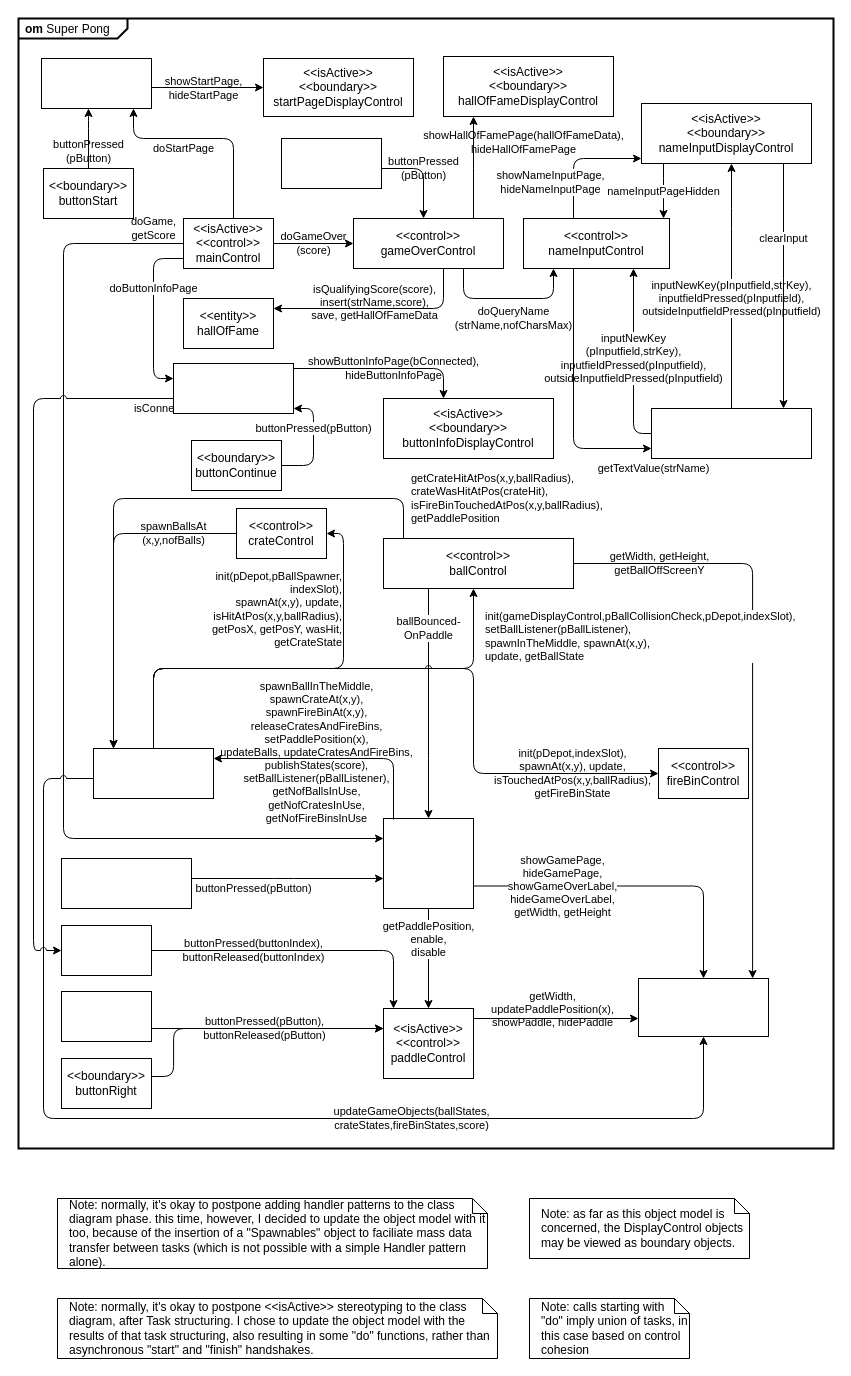
This 851x1376 diagram has some shape labels left out. Each missing label, with the box of its shape:
<<boundary>> buttonGameOverLabel: (60, 858, 192, 908)
<<boundary>> buttonLeft: (60, 990, 152, 1042)
<<boundary>> buttonPlayAgain: (280, 138, 382, 188)
<<boundary>> inputfield: (650, 408, 812, 458)
<<control>> buttonInfoControl: (172, 362, 294, 414)
<<control>> gameControl: (382, 818, 474, 908)
<<control>> startPageControl: (40, 58, 152, 108)
<<entity>> spawnables: (92, 748, 214, 798)
<<isActive>> <<boundary>> adcButtons: (60, 924, 152, 976)
<<isActive>> <<boundary>> gameDisplayControl: (638, 978, 768, 1036)
